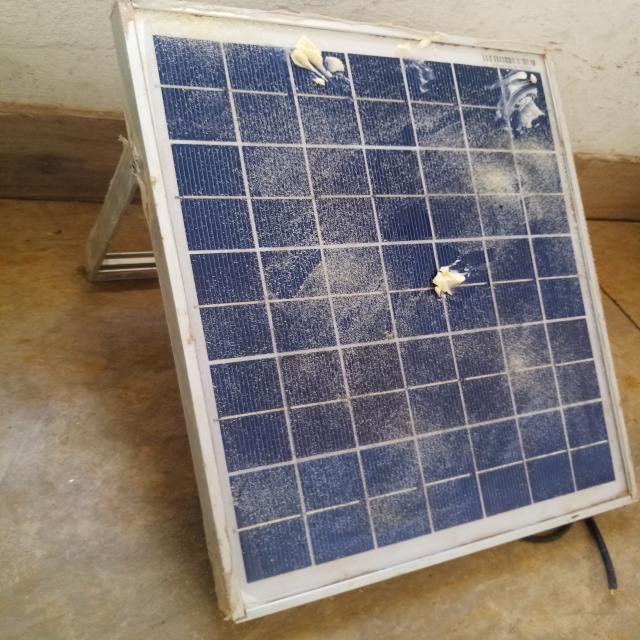faulty: (121, 3, 640, 622)
